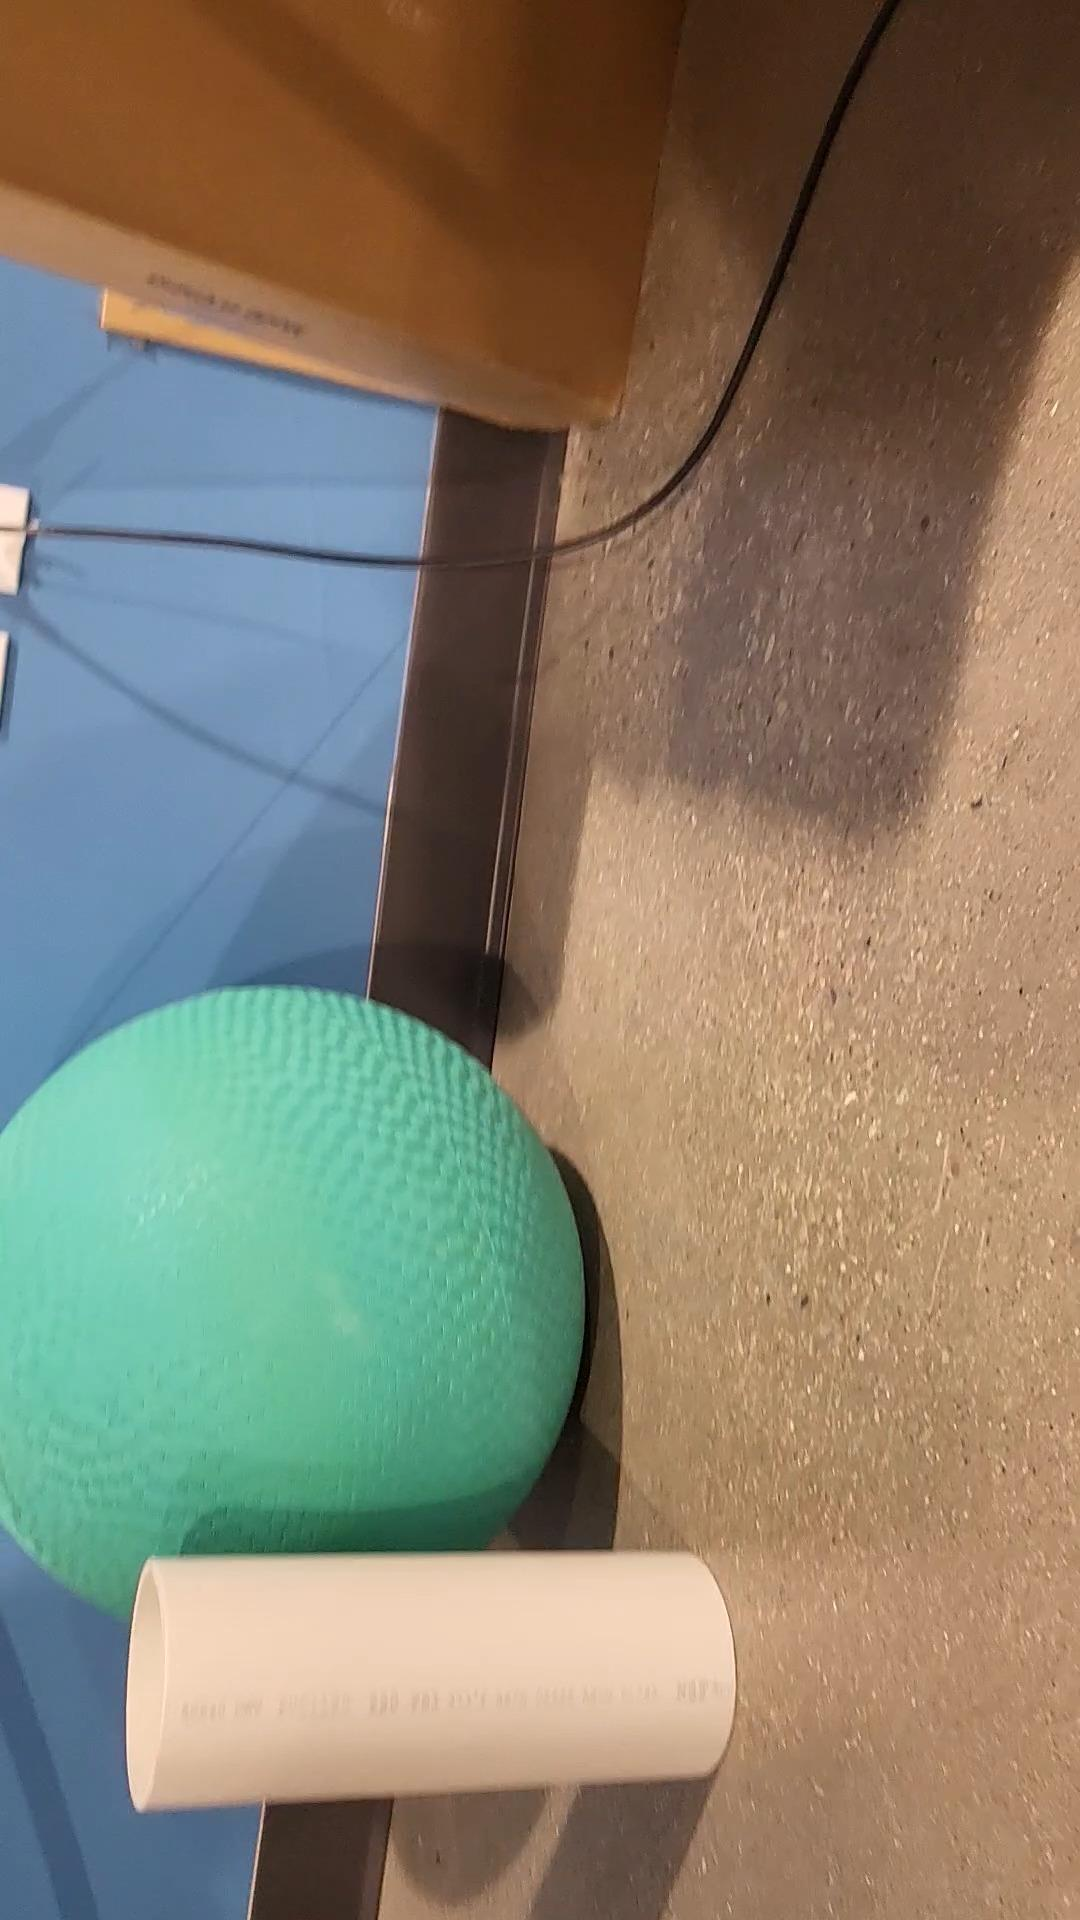algae: (0, 988, 580, 1633)
coral: (131, 1549, 737, 1815)
